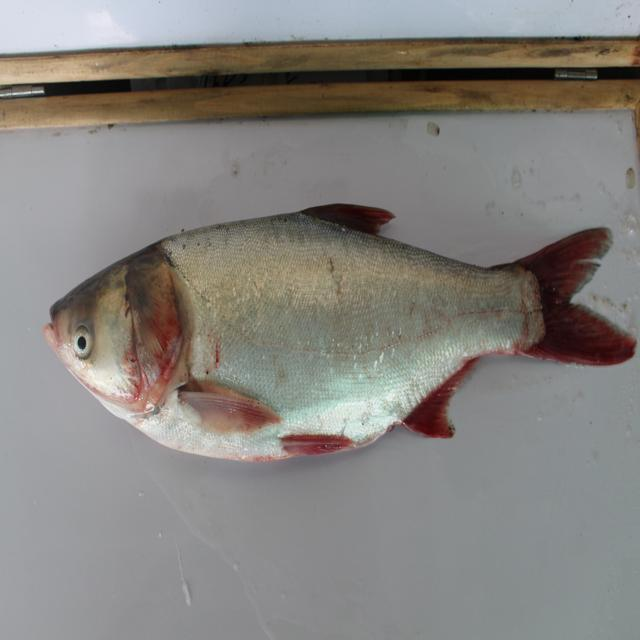SilverCarp: (39, 202, 617, 462)
